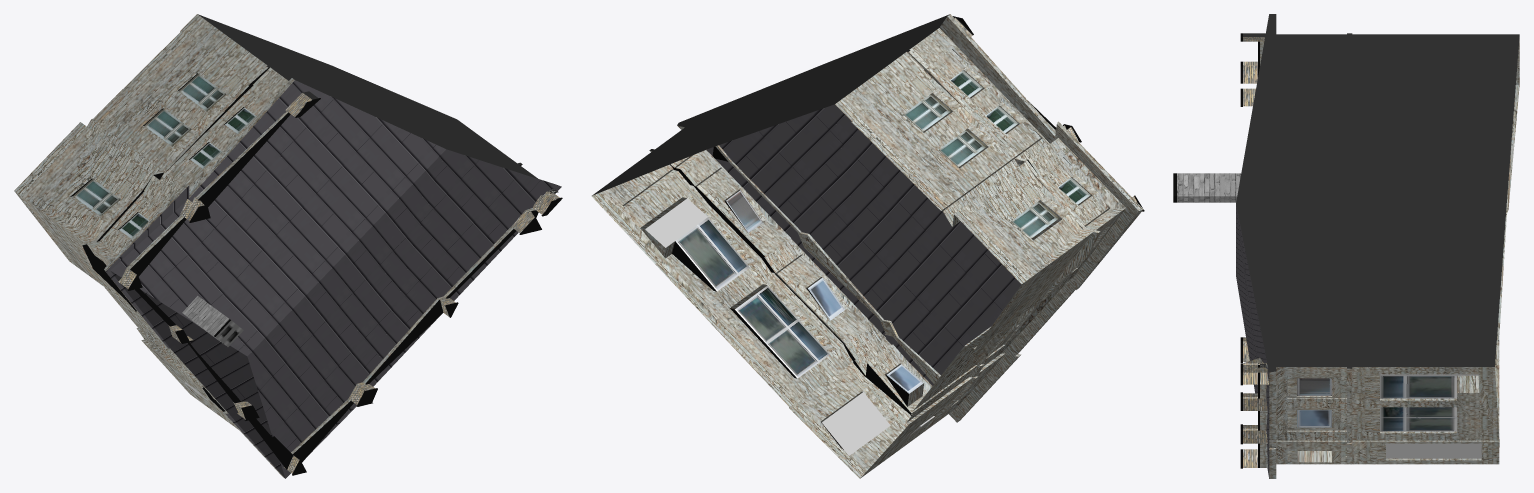
Rendered from Kohtu_6_3-origo.obj.
The picture shows the model from 3 angles, left to right: view 1: azimuth 30°, elevation 25°; view 2: azimuth 150°, elevation 25°; view 3: azimuth 270°, elevation 25°; orthographic projection. The views are drawn at different scales.
Parts seen in each view (by area): view 1: Kohtu_6_3; view 2: Kohtu_6_3; view 3: Kohtu_6_3.
Part boxes in pixels (x1,y1,x2,y2): Kohtu_6_3: (14, 14, 562, 478); Kohtu_6_3: (591, 14, 1144, 478); Kohtu_6_3: (1173, 14, 1519, 478).
Bounding box in the file's own units: 18.06 × 15 × 10.02.
